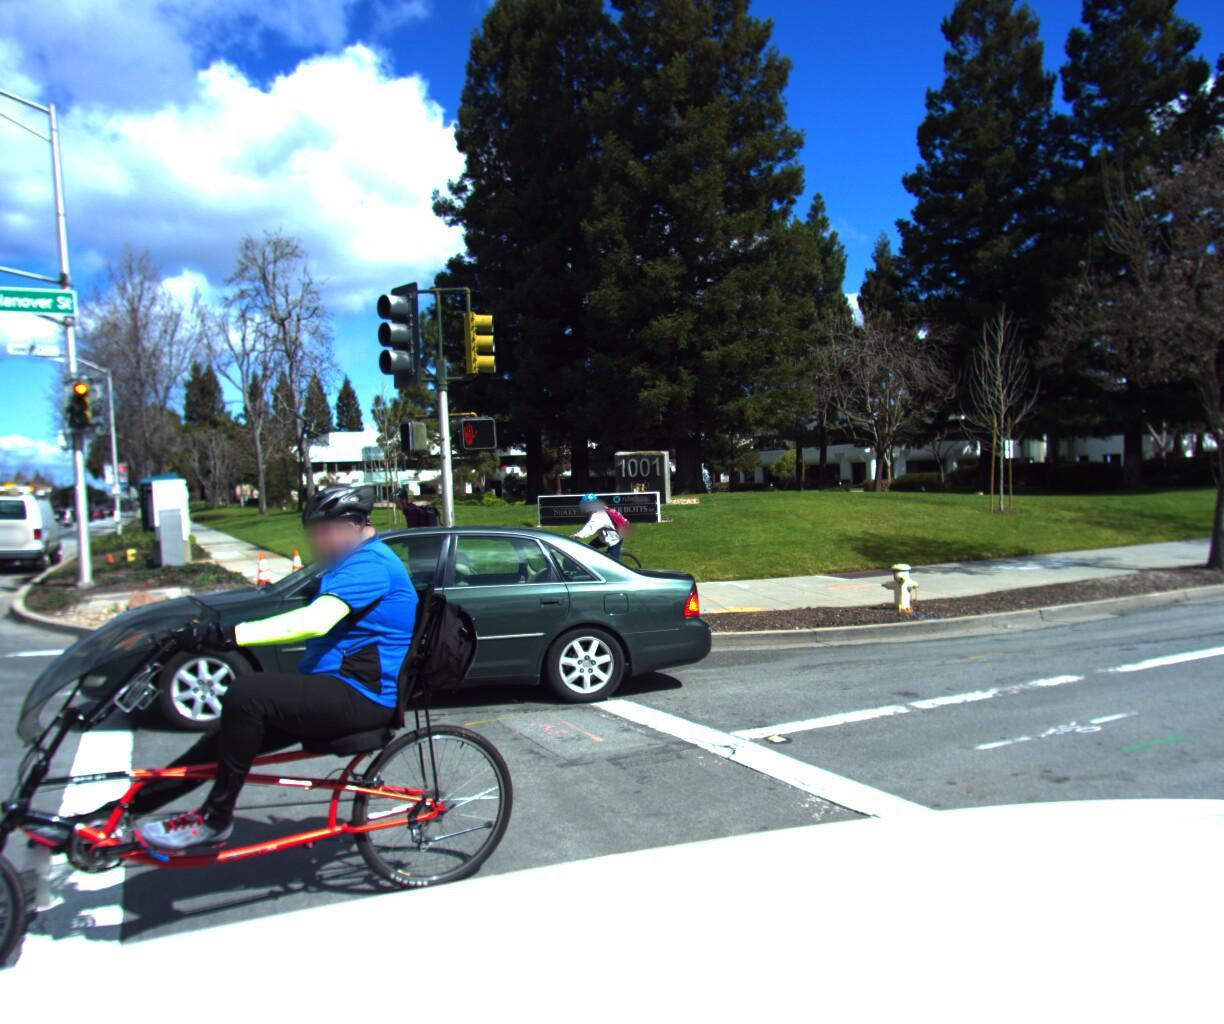bicycle: (0, 420, 642, 1024), (336, 479, 485, 625), (512, 475, 659, 613)
car: (33, 514, 729, 775), (0, 479, 76, 585)
